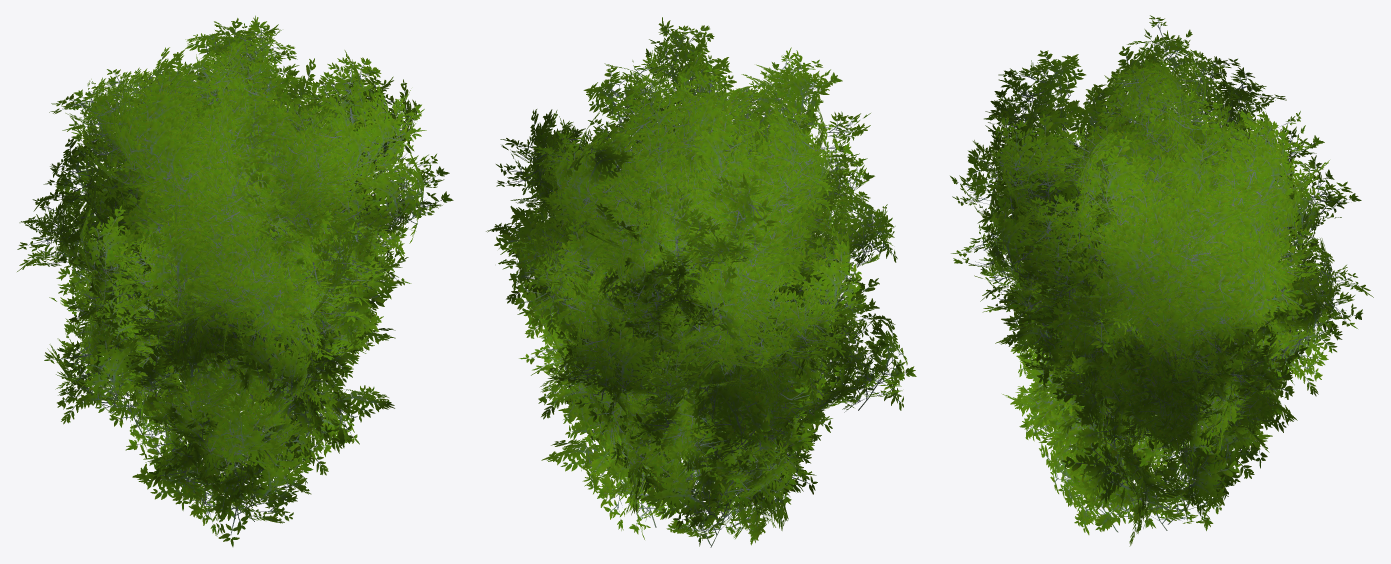
3 renders of one model, left to right at view 1: azimuth 30°, elevation 25°; view 2: azimuth 150°, elevation 25°; view 3: azimuth 270°, elevation 25°, orthographic.
Parts seen in each view (by area): view 1: SM_BM_Ash_Canopy_02_LOD0; view 2: SM_BM_Ash_Canopy_02_LOD0; view 3: SM_BM_Ash_Canopy_02_LOD0.
Part boxes in pixels (x1,y1,x2,y2): SM_BM_Ash_Canopy_02_LOD0: (17,15,453,546); SM_BM_Ash_Canopy_02_LOD0: (486,17,916,547); SM_BM_Ash_Canopy_02_LOD0: (950,15,1373,546).
Bounding box in the file's own units: 9.24 × 11.05 × 9.14.
Materials: 1 (1 with a texture image).
